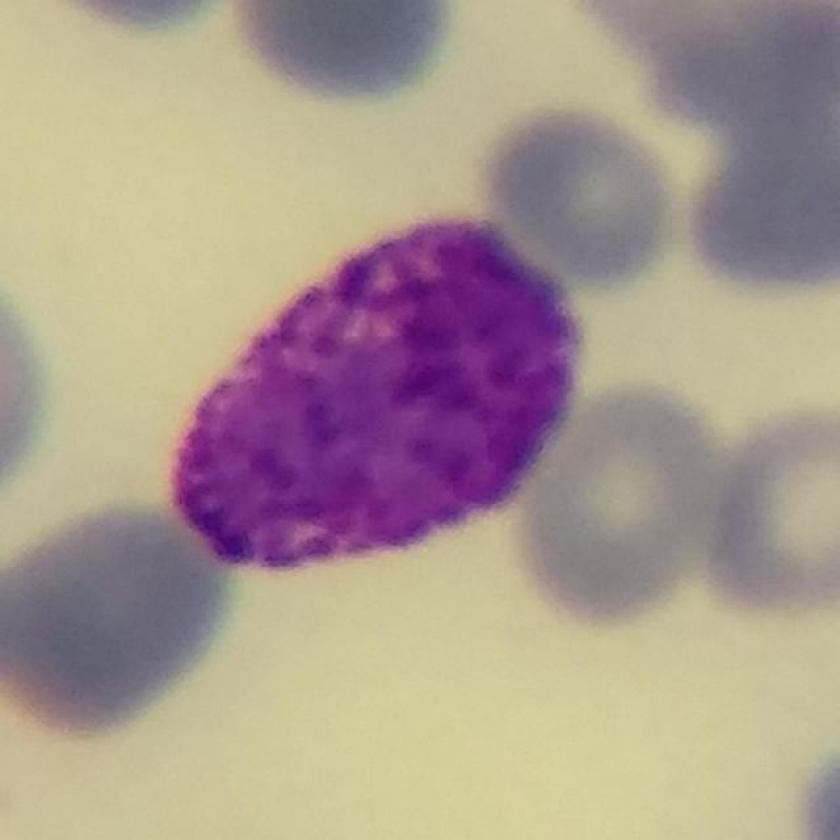basophil: (168, 201, 601, 579)
